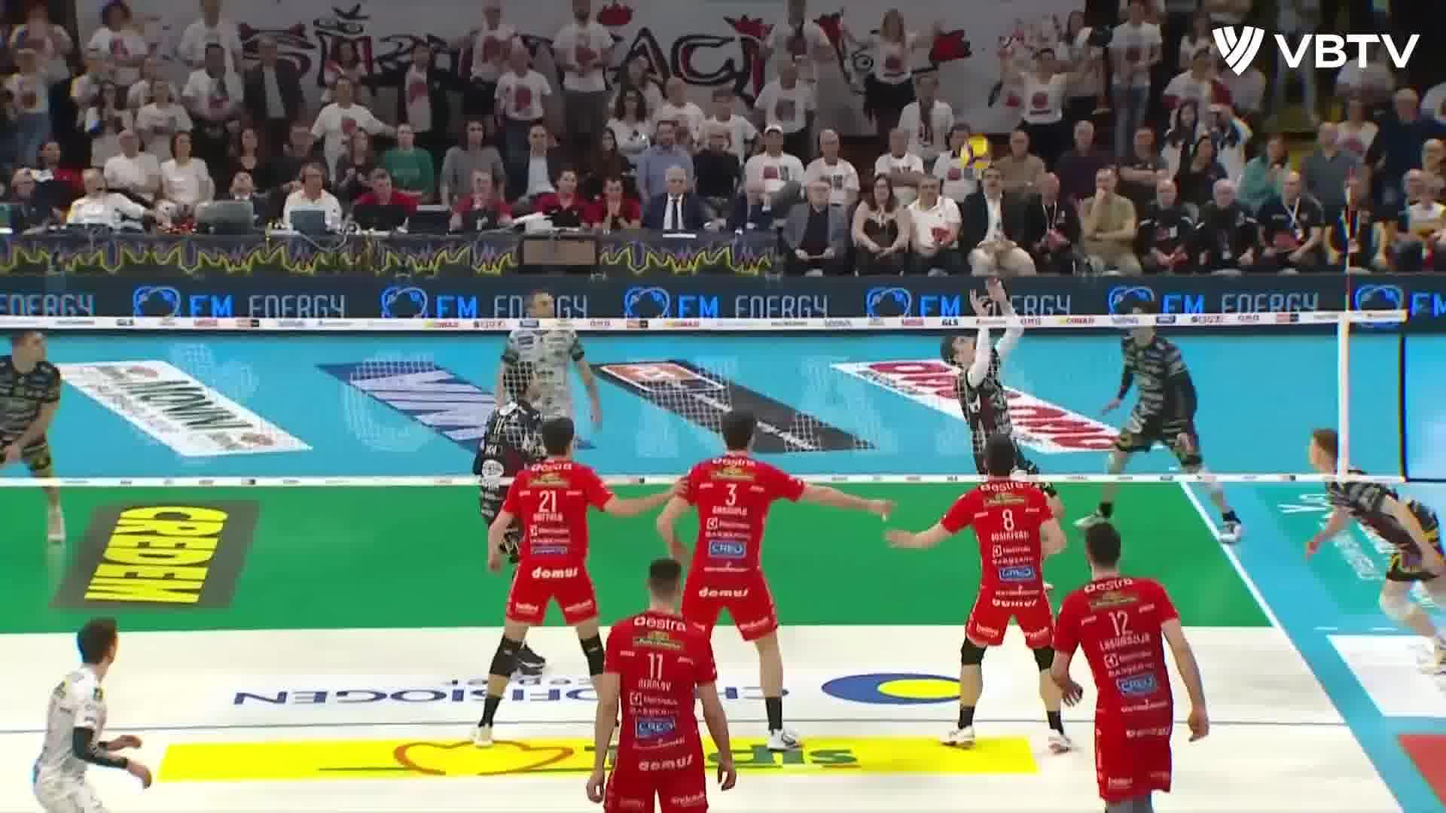balls: (958, 134, 995, 173)
